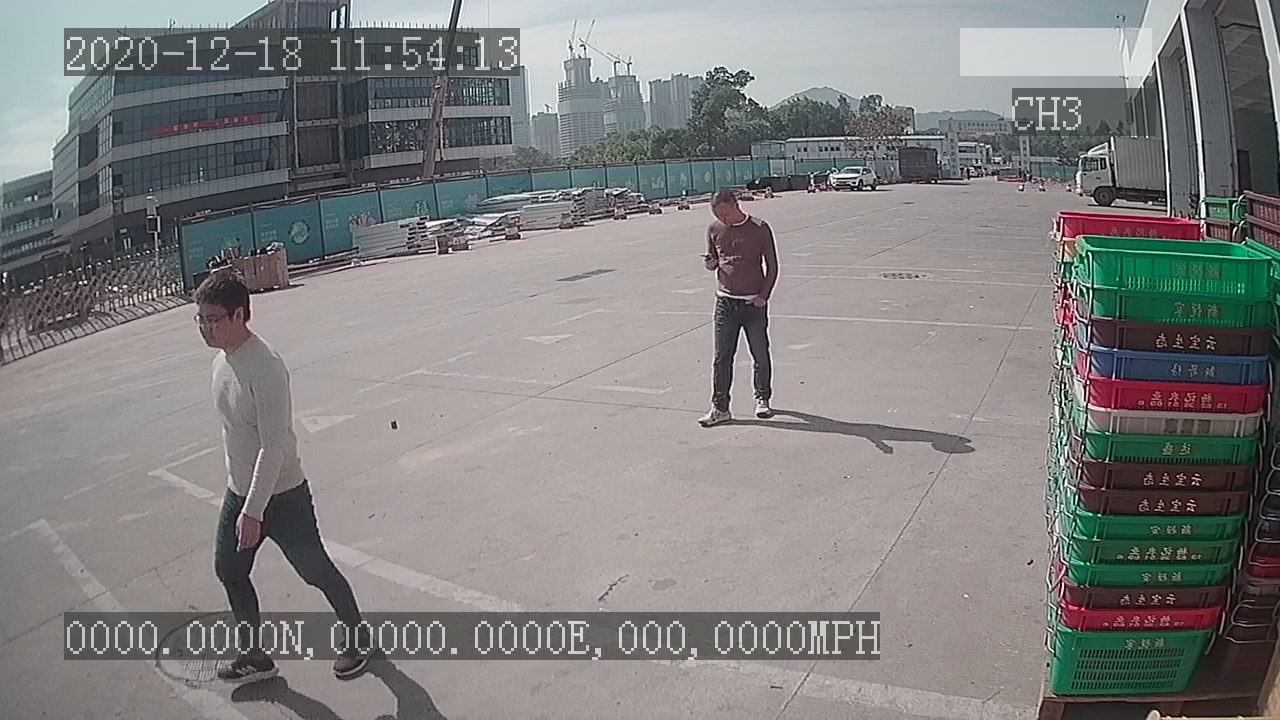person: (693, 186, 784, 440)
